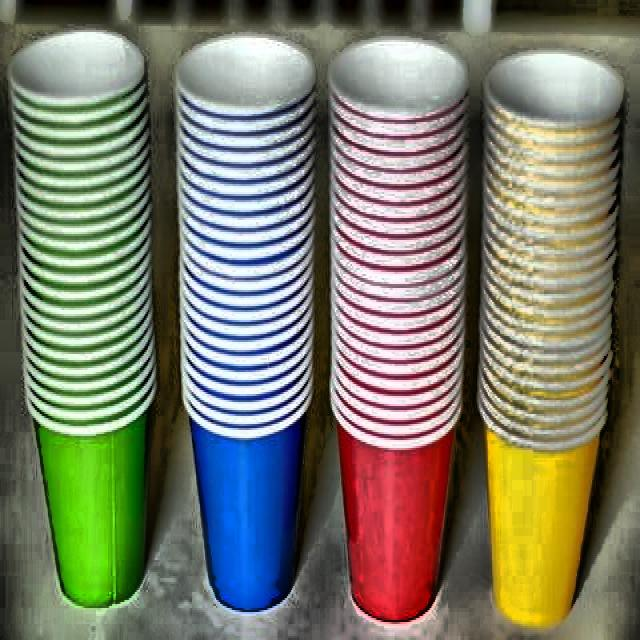Cup: (2, 19, 166, 612), (475, 22, 623, 634), (171, 21, 322, 619), (324, 21, 472, 630)
